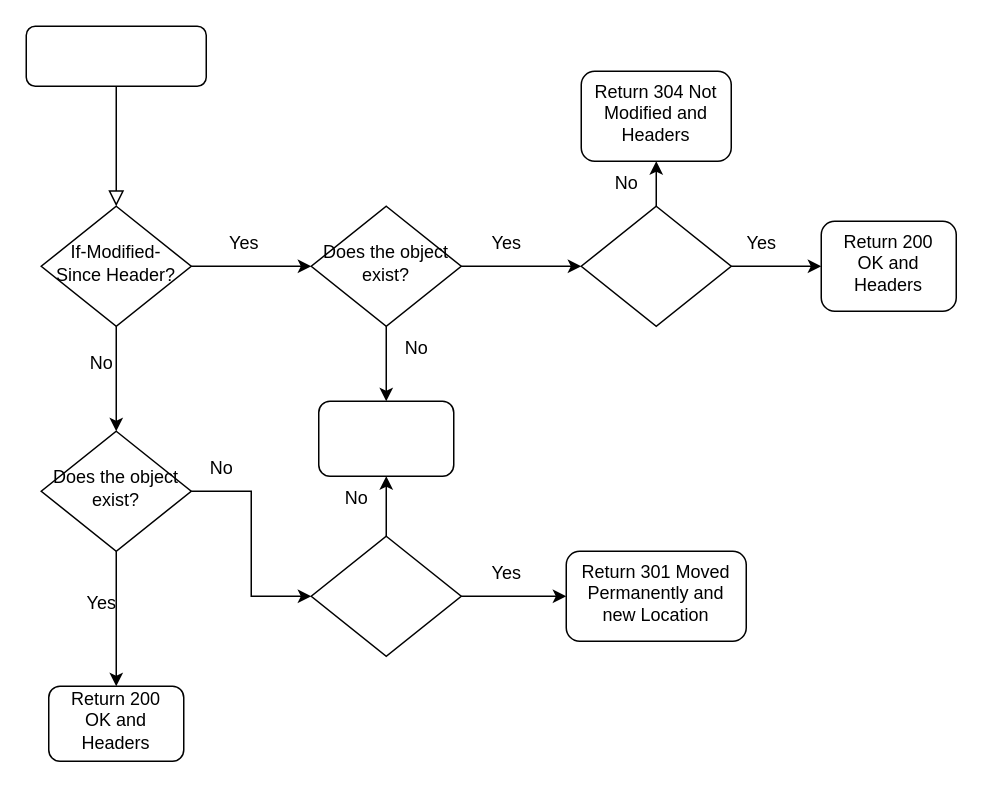
The diagram is 983 pixels wide and 788 high, and some of its shapes have lost their labels. Each missing label, with the centre of its shape:
GET request from browser: (115,55)
Has it been modified?: (655,265)
Has it been moved?: (385,595)
Return 404 Not Found: (385,438)
